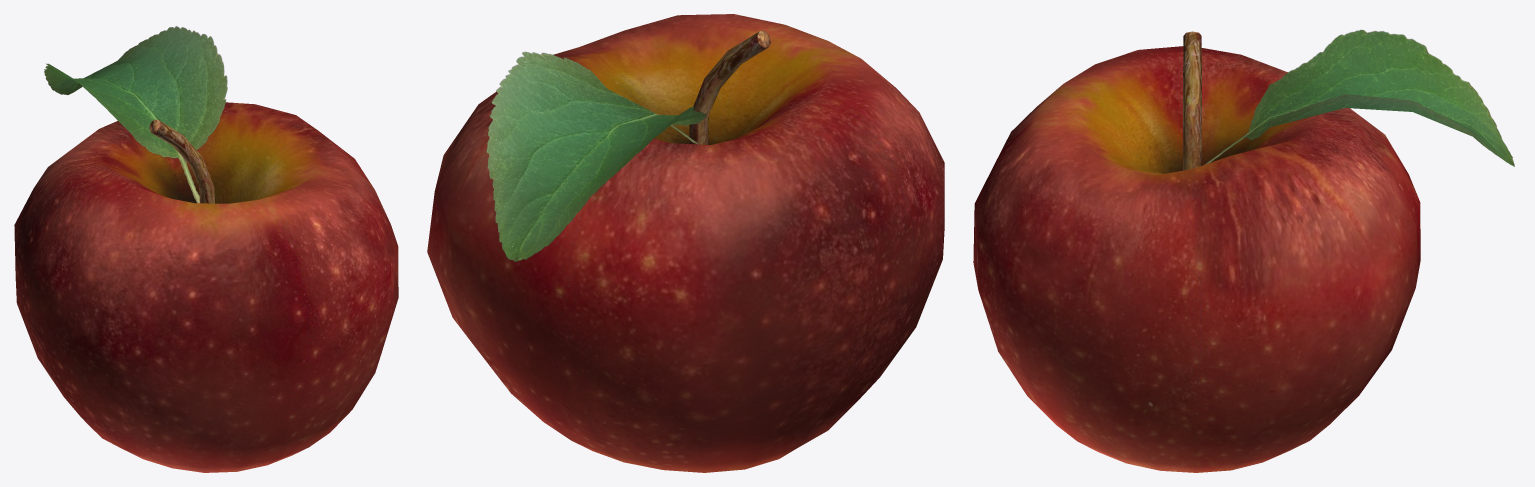
The model's file is apple_whole_red.glb.
3 views of the same model, side by side, from view 1: azimuth 30°, elevation 25°; view 2: azimuth 150°, elevation 25°; view 3: azimuth 270°, elevation 25° (orthographic). The views are drawn at different scales.
Parts seen in each view (by area): view 1: Apple, Leaf; view 2: Apple, Leaf; view 3: Apple, Leaf.
Boxes of the visible parts, box(x1,y1,x2,y2) form: Apple: box(14, 102, 398, 472); Leaf: box(44, 26, 227, 203); Apple: box(427, 14, 944, 472); Leaf: box(486, 52, 706, 261); Apple: box(973, 31, 1420, 472); Leaf: box(1204, 30, 1514, 166).
Bounding box in the file's own units: 0.0942 × 0.0879 × 0.1159.
2 materials, 2 textured.
